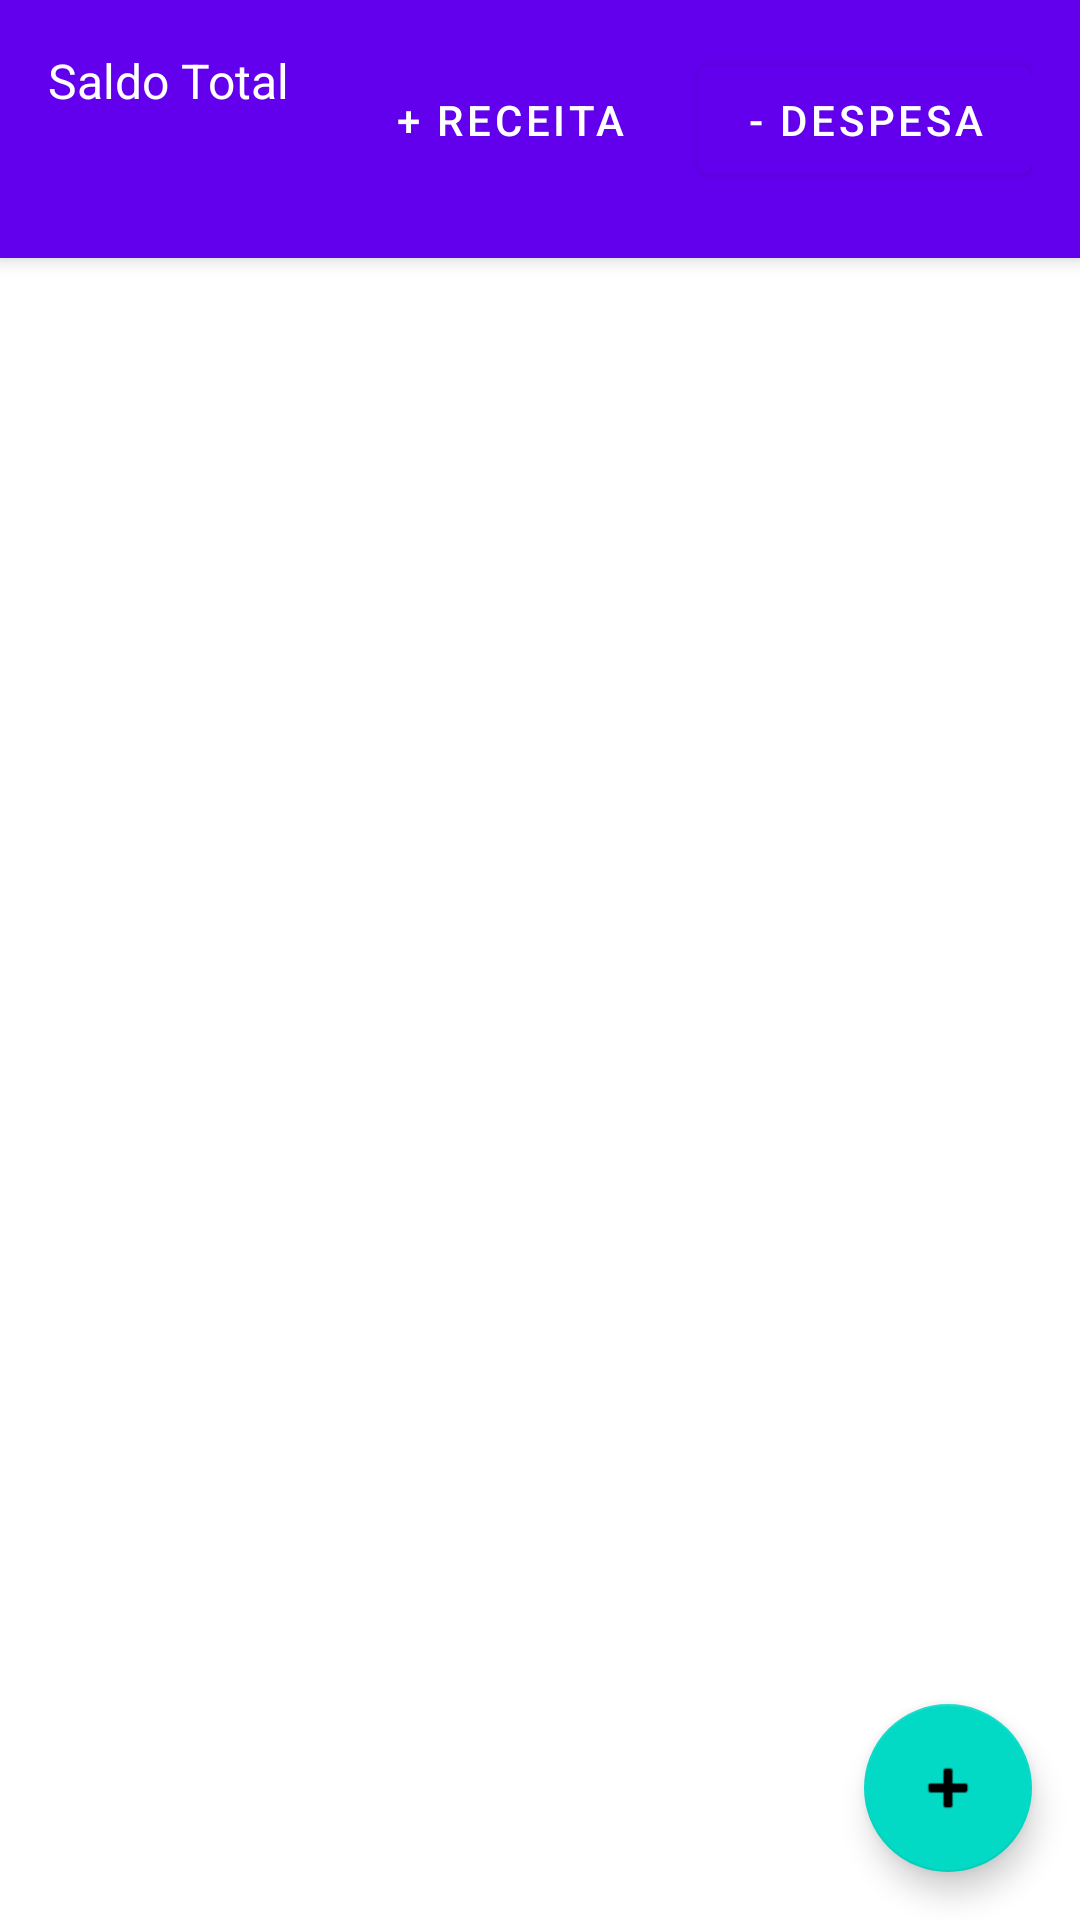

Icons on this 1080px×1920px Android screen, each with its box as (x1, y1, x2, y2):
Adicionar transação: (864, 1704, 1032, 1872)
